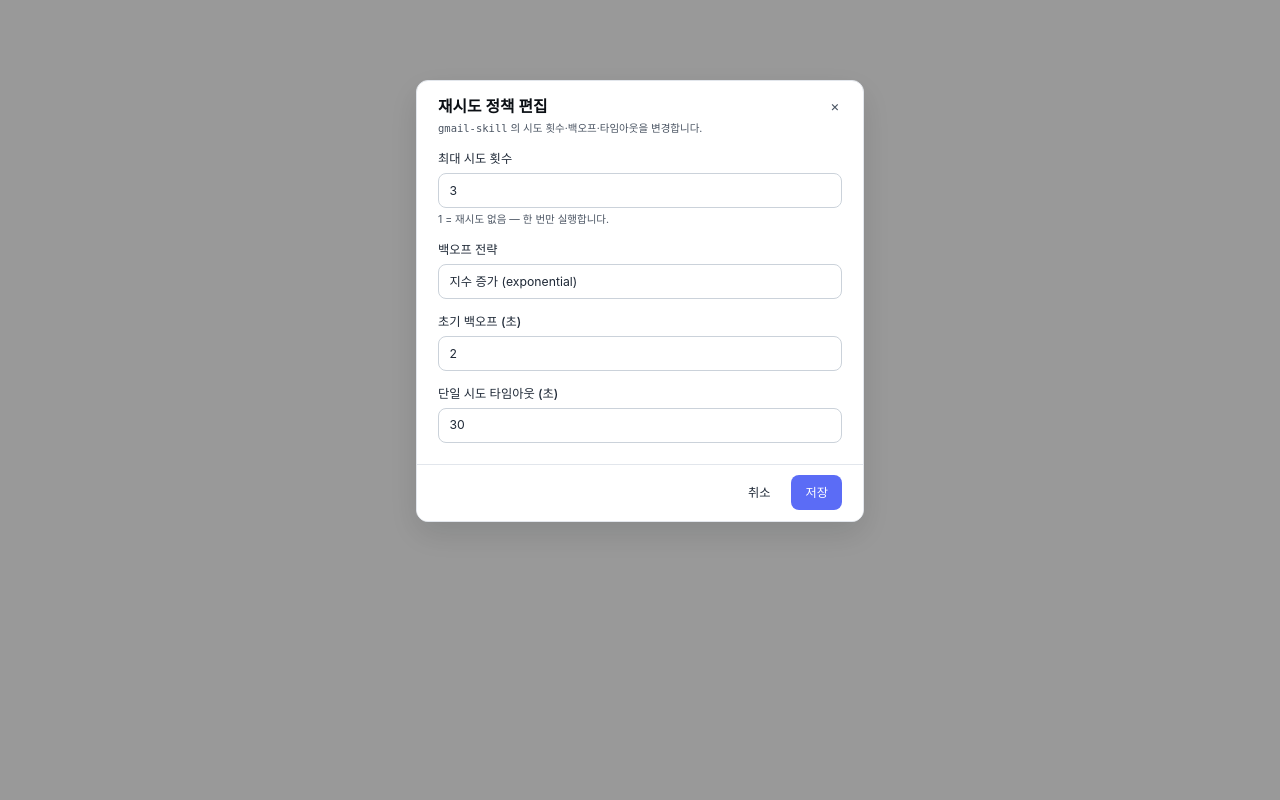
Test: RetryPolicyModal › 전략을 none 으로 바꾸면 backoff 입력이 disabled
Select "재시도 없음 (none)" in the dropdown with test id "retry-policy-strategy" at (640,282), box [438, 264, 842, 299]
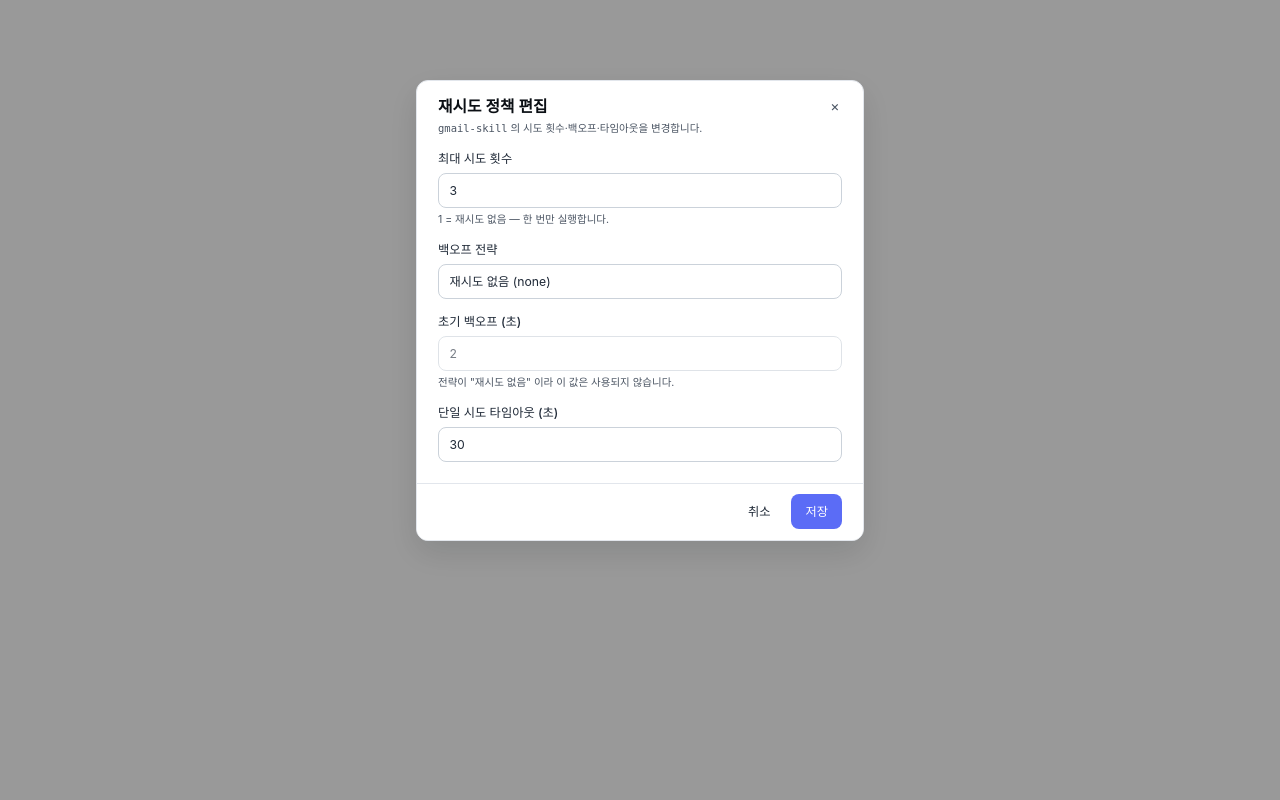
Expected: the number field with test id "retry-policy-backoff" is disabled, [450, 344, 830, 362]
